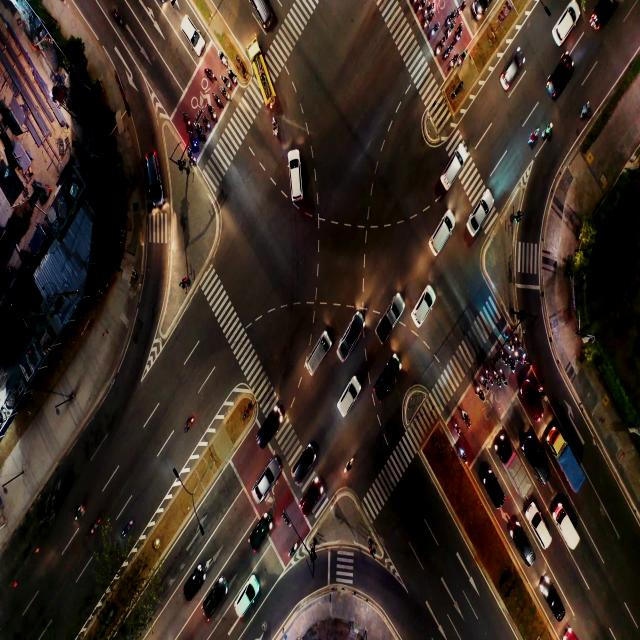bus: (256, 66, 268, 88)
car: (146, 157, 160, 188), (203, 594, 219, 617), (181, 19, 197, 41), (257, 3, 270, 29), (446, 157, 458, 183), (550, 69, 562, 95), (415, 300, 426, 328), (548, 590, 560, 612), (344, 330, 355, 353), (473, 205, 484, 227), (251, 530, 266, 546), (308, 353, 320, 373), (504, 63, 516, 83), (537, 519, 547, 543), (239, 593, 249, 615), (559, 17, 569, 39), (536, 454, 546, 476), (525, 393, 536, 413), (186, 580, 196, 600), (260, 426, 272, 442), (378, 377, 388, 395), (490, 480, 500, 498), (520, 539, 529, 559), (291, 174, 300, 193), (436, 229, 444, 248), (306, 493, 316, 508), (342, 398, 352, 413), (254, 484, 268, 494), (296, 464, 302, 481)
motorcycle: (186, 412, 197, 432), (530, 126, 539, 144), (124, 520, 134, 536), (542, 122, 552, 138), (345, 456, 354, 473), (581, 102, 589, 120), (78, 504, 84, 522), (271, 116, 277, 134), (461, 49, 468, 62), (90, 522, 99, 532), (290, 544, 296, 558), (184, 113, 190, 127), (514, 331, 520, 345), (430, 25, 436, 39), (206, 69, 212, 82), (501, 347, 506, 362), (539, 384, 545, 396), (522, 350, 528, 362), (476, 386, 482, 397), (446, 15, 452, 26), (115, 15, 121, 25), (446, 29, 452, 39), (458, 6, 464, 16), (198, 124, 203, 135), (450, 58, 455, 69), (444, 49, 450, 58), (202, 117, 207, 127), (215, 97, 220, 107), (460, 448, 465, 458), (462, 411, 467, 421), (509, 356, 513, 368), (509, 336, 513, 348), (423, 20, 429, 28), (425, 6, 431, 14), (453, 422, 458, 431), (456, 32, 461, 41), (416, 5, 421, 14), (220, 53, 224, 64), (191, 138, 196, 146), (210, 108, 214, 118), (222, 76, 226, 85), (494, 371, 498, 380), (190, 152, 194, 160), (436, 46, 440, 54), (501, 370, 505, 377), (481, 373, 484, 382), (230, 74, 234, 80), (222, 90, 226, 96), (486, 369, 489, 376), (515, 351, 518, 357)
truck: (382, 309, 396, 334), (559, 447, 574, 467), (512, 461, 522, 481), (564, 522, 574, 538)
